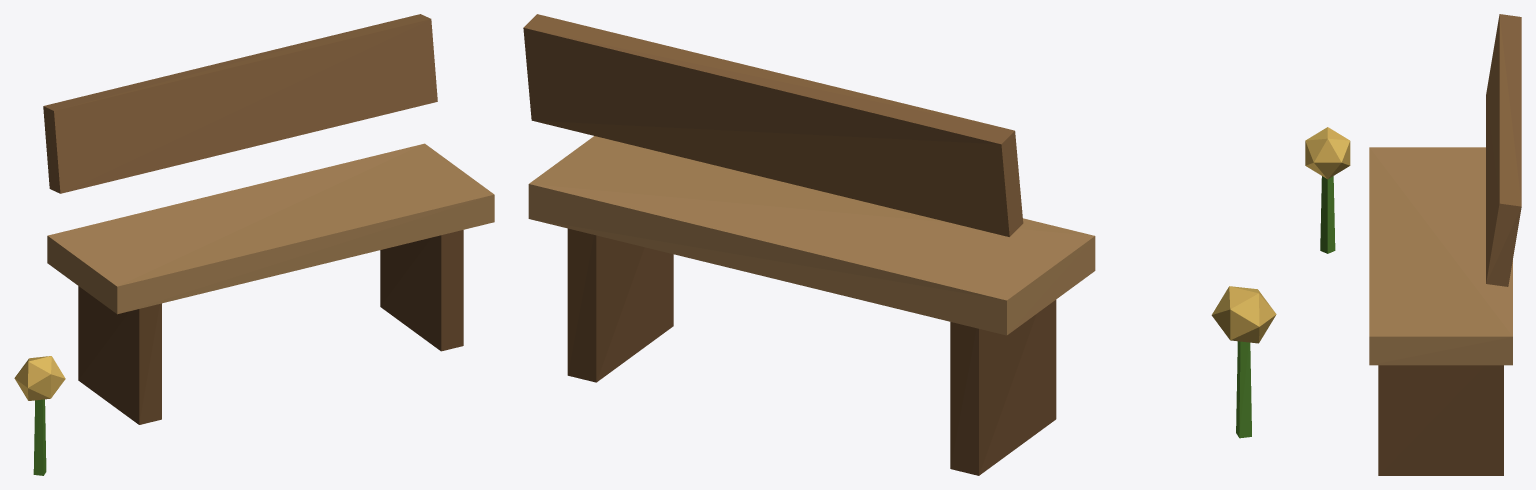
File: banc.glb
3 views of the same model, side by side, from view 1: azimuth 30°, elevation 25°; view 2: azimuth 150°, elevation 25°; view 3: azimuth 270°, elevation 25° (orthographic). The views are drawn at different scales.
Bounding box in the file's own units: 1.68 × 0.9001 × 0.618.
